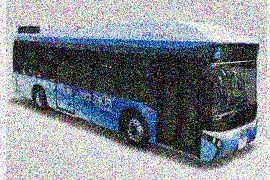bus: (14, 20, 260, 164)
